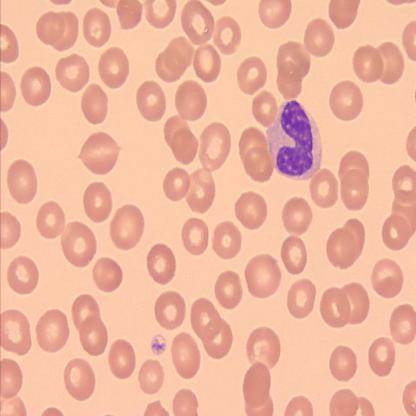Band Neutrophil: (265, 98, 324, 184)
